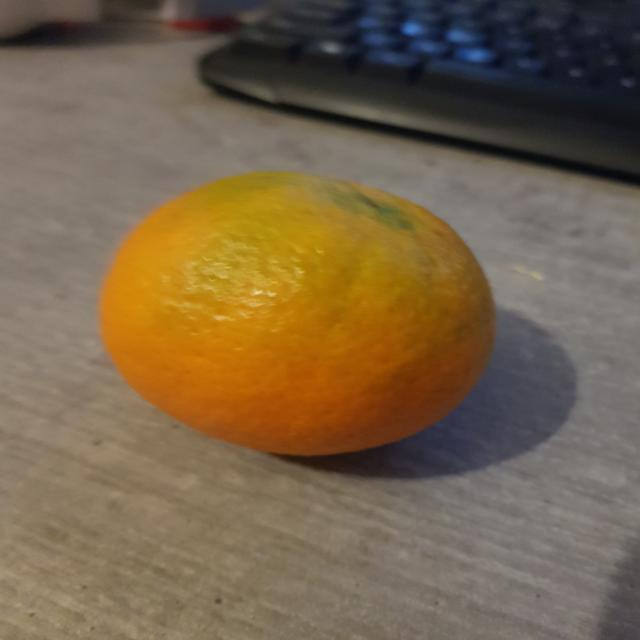Orange: (96, 171, 497, 458)
